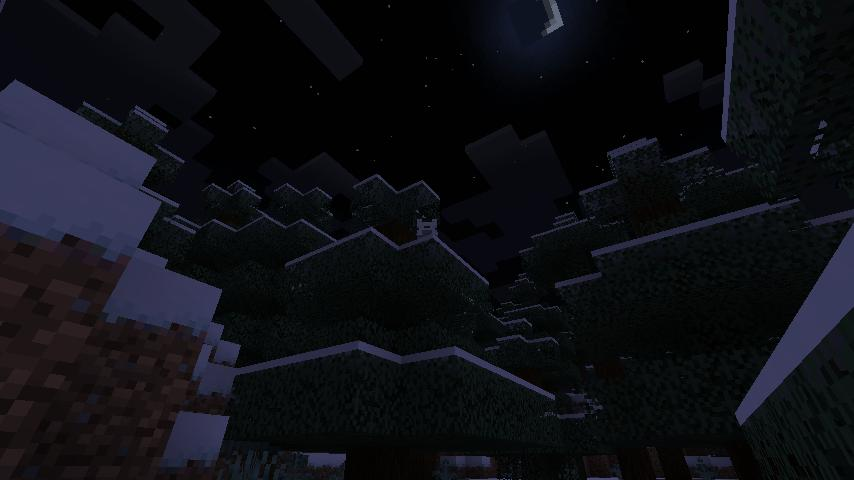fox: (415, 216, 440, 244)
